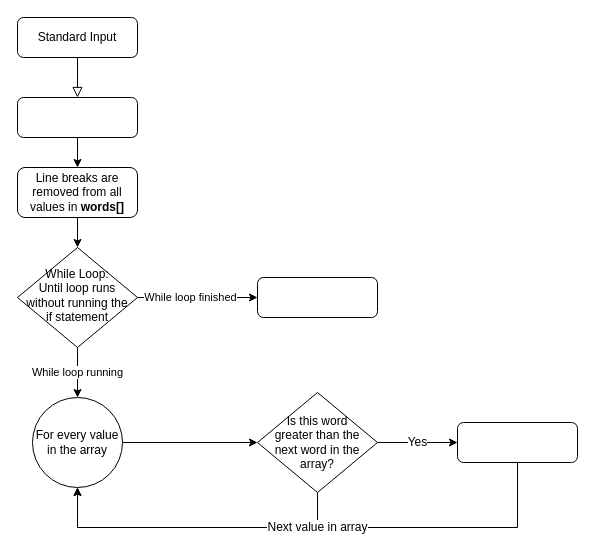
Some shapes in this 595 by 553 pixel diagram are drawn without their labels. Here are the shapes that lost their labels. From the top down, the box of each, then its label:
(16, 96, 138, 138): Input is appended into list/array words[]
(256, 276, 378, 318): Standard Output
(456, 422, 578, 462): Switch the places of the terms in the array
